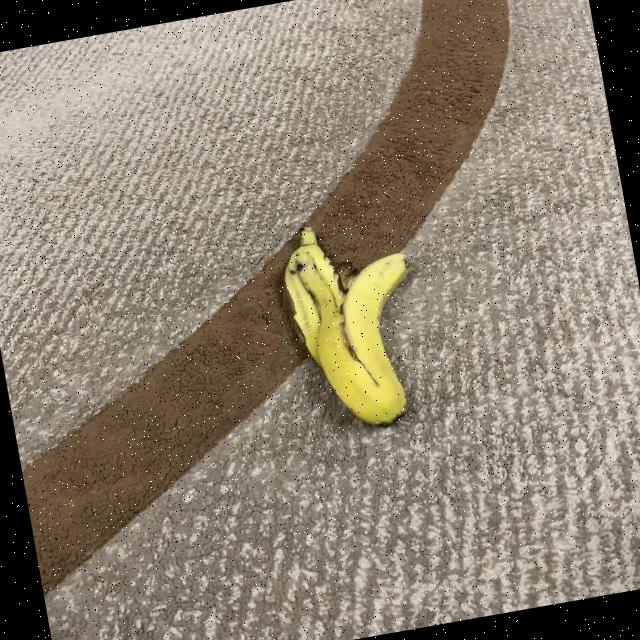banana-peel: (274, 210, 436, 438)
